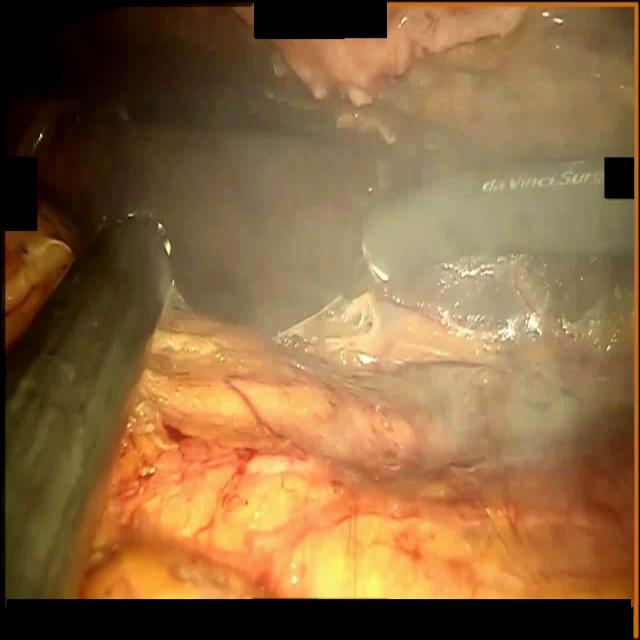surgical-area: (4, 0, 640, 639)
surgical-tool: (4, 206, 172, 596), (361, 156, 634, 284)
